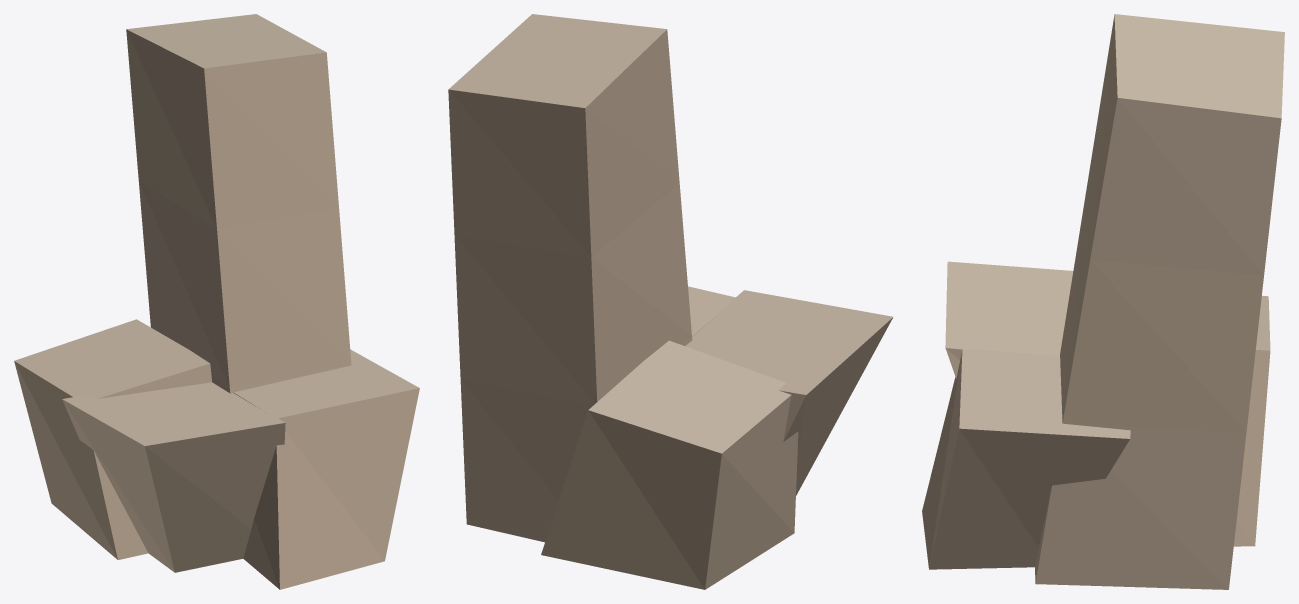
File: limestone.glb
3 renders of one model, left to right at view 1: azimuth 30°, elevation 25°; view 2: azimuth 150°, elevation 25°; view 3: azimuth 270°, elevation 25°, orthographic. The views are drawn at different scales.
Visible parts, largest first — view 1: Stone5, Stone4, Stone1, Stone3, Stone2; view 2: Stone5, Stone2, Stone4, Stone3, Stone0, Stone1; view 3: Stone5, Stone4, Stone1, Stone0, Stone3, Stone2.
Boxes of the visible parts, box(x1,y1,x2,y2) form: Stone5: box(126, 14, 338, 228); Stone4: box(138, 181, 351, 389); Stone1: box(233, 349, 419, 589); Stone3: box(62, 382, 285, 572); Stone2: box(14, 319, 211, 559); Stone5: box(448, 14, 679, 257); Stone2: box(541, 340, 798, 589); Stone4: box(454, 183, 691, 405); Stone3: box(685, 290, 893, 495); Stone0: box(460, 336, 692, 542); Stone1: box(688, 286, 735, 336); Stone5: box(1087, 14, 1284, 275); Stone4: box(1060, 183, 1263, 432); Stone1: box(922, 349, 1130, 569); Stone0: box(1035, 352, 1246, 589); Stone3: box(945, 261, 1073, 378); Stone2: box(1233, 295, 1270, 546).
Size of the model in its own units: 1.89 by 2.93 by 1.91.
